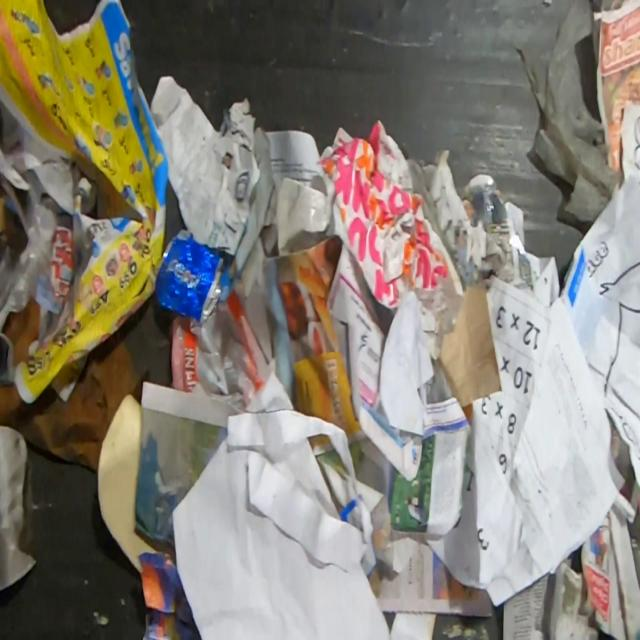cardboard: (0, 326, 142, 472), (0, 294, 40, 368)
metal: (155, 228, 227, 322)
soft_plastic: (512, 0, 616, 224), (171, 291, 268, 404)
